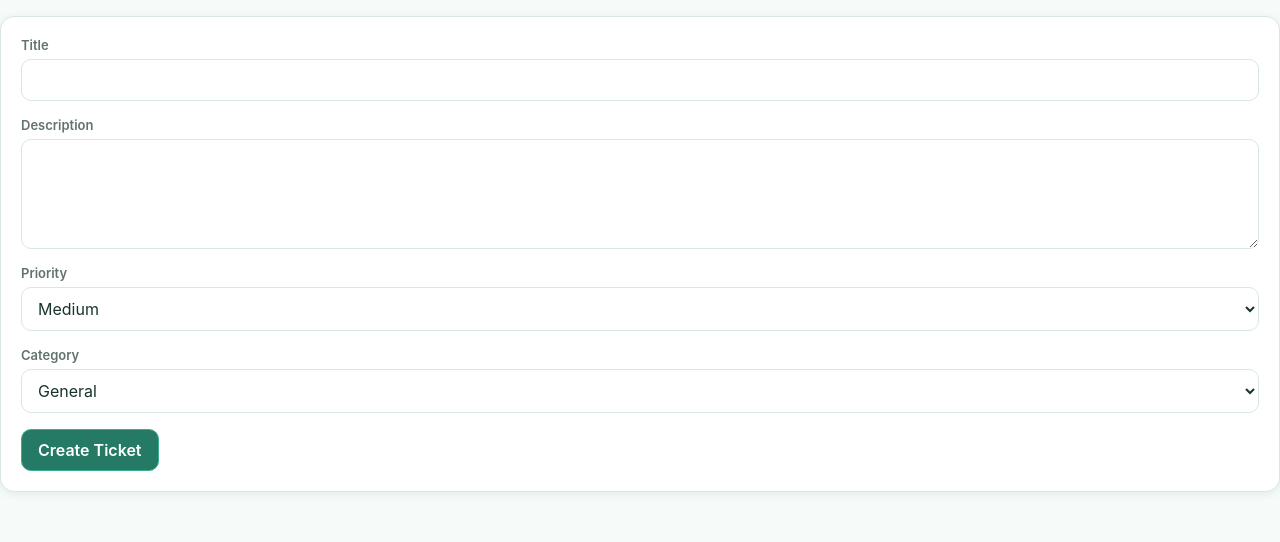
Scenario: TicketForm — create mode › requires both title and description
Step 1. Click the button "Create Ticket" → coordinates (90, 450), box [21,429,158,471]
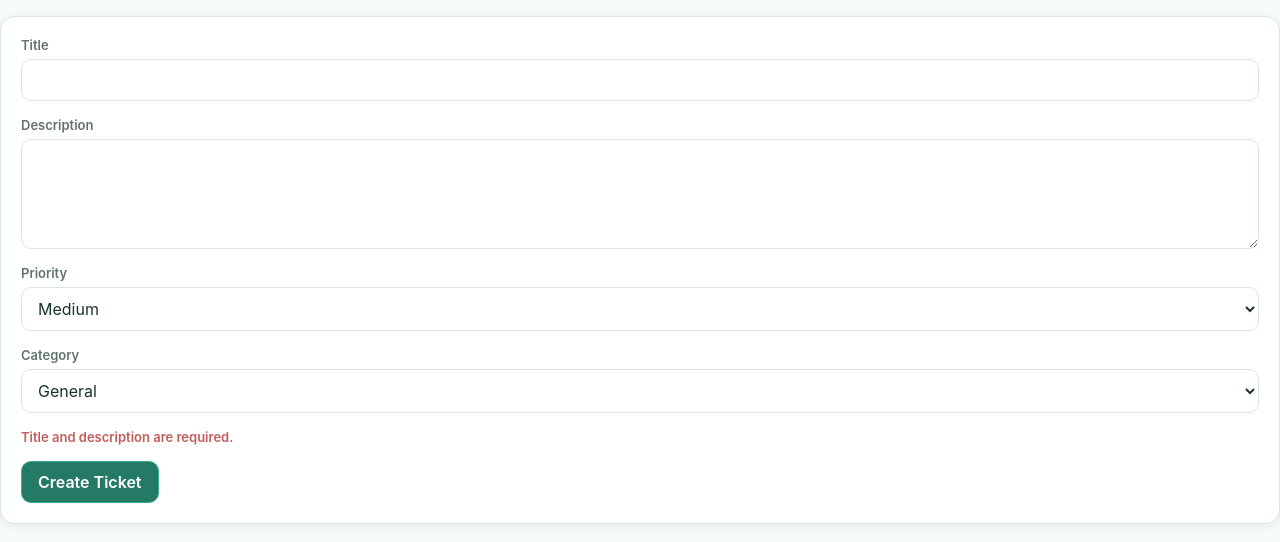
expect the text "Title and description are required." is shown: met, box [21,429,233,445]
